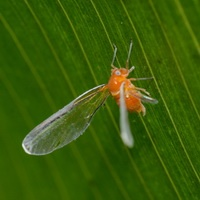insect: (22, 40, 157, 154)
